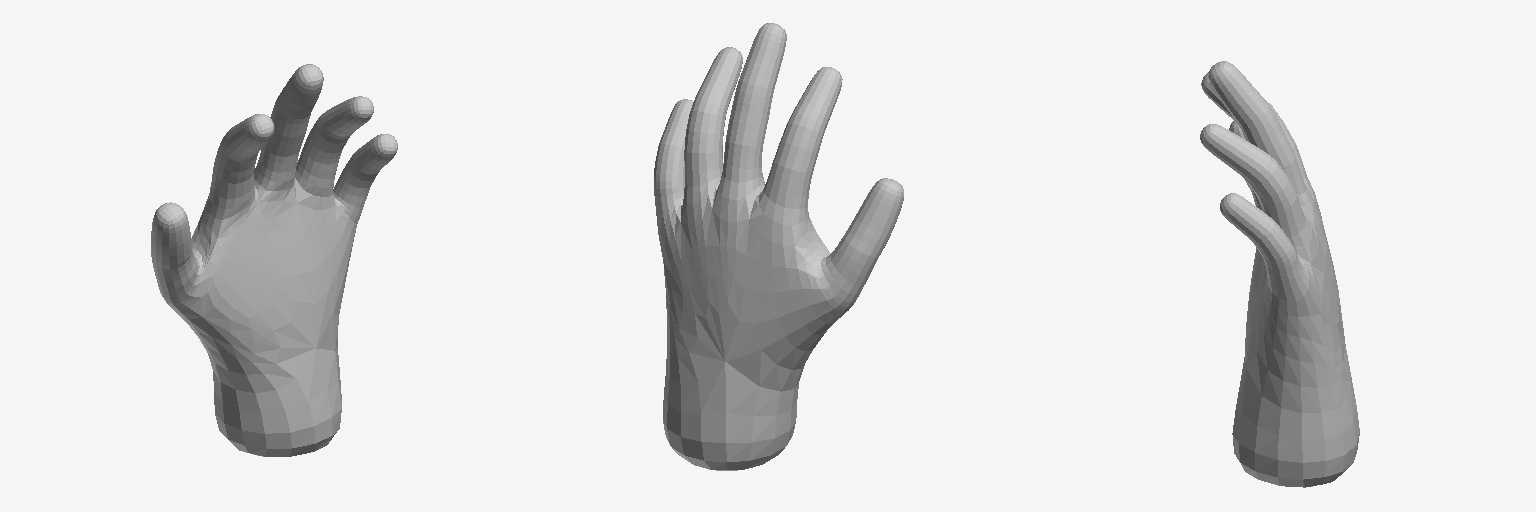
Rendered from handanimatsion9.obj.
3 views of the same model, side by side, from view 1: azimuth 30°, elevation 25°; view 2: azimuth 150°, elevation 25°; view 3: azimuth 270°, elevation 25° (orthographic).
Visible parts, largest first — view 1: Cube; view 2: Cube; view 3: Cube.
Boxes of the visible parts, box(x1,y1,x2,y2) form: Cube: box(151, 64, 397, 456); Cube: box(654, 23, 903, 470); Cube: box(1200, 61, 1359, 487).
Bounding box in the file's own units: 3.74 × 6.27 × 2.21.